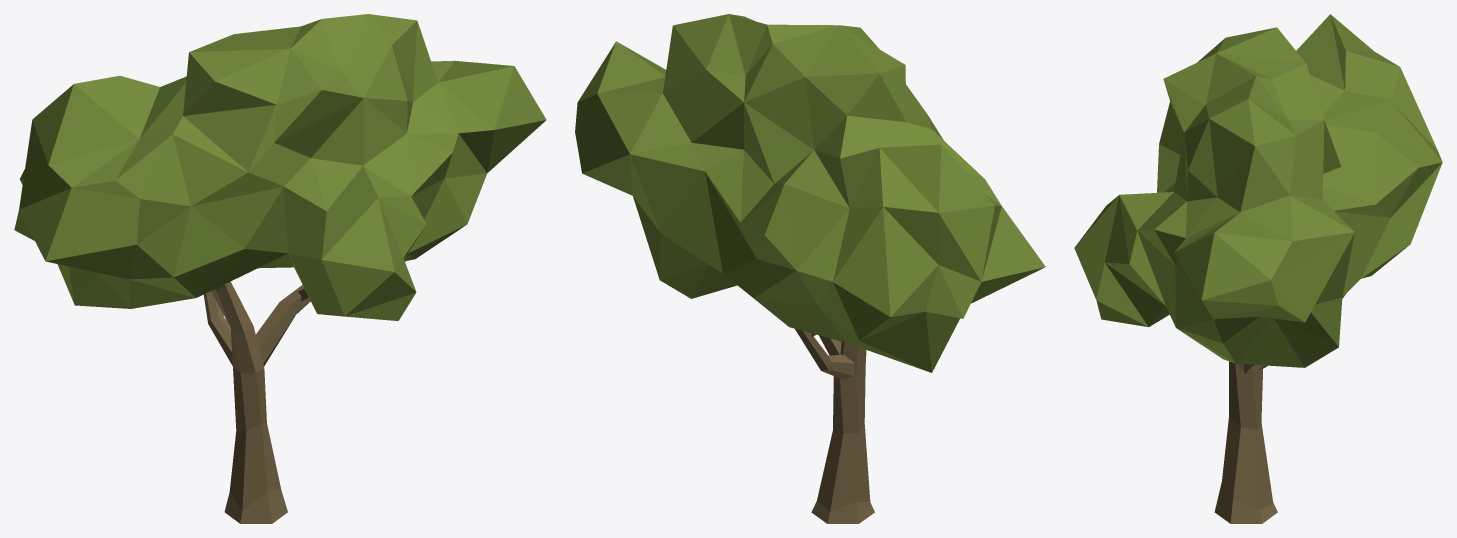
Rendered from Tree_7.fbx.
3 views of the same model, side by side, from view 1: azimuth 30°, elevation 25°; view 2: azimuth 150°, elevation 25°; view 3: azimuth 270°, elevation 25° (orthographic).
Visible parts, largest first — view 1: Tree_7; view 2: Tree_7; view 3: Tree_7.
Boxes of the visible parts, <box> form: Tree_7: <box>14,14,546,523</box>; Tree_7: <box>575,14,1045,523</box>; Tree_7: <box>1074,14,1442,523</box>.
Bounding box in the file's own units: 433 × 412 × 292.
